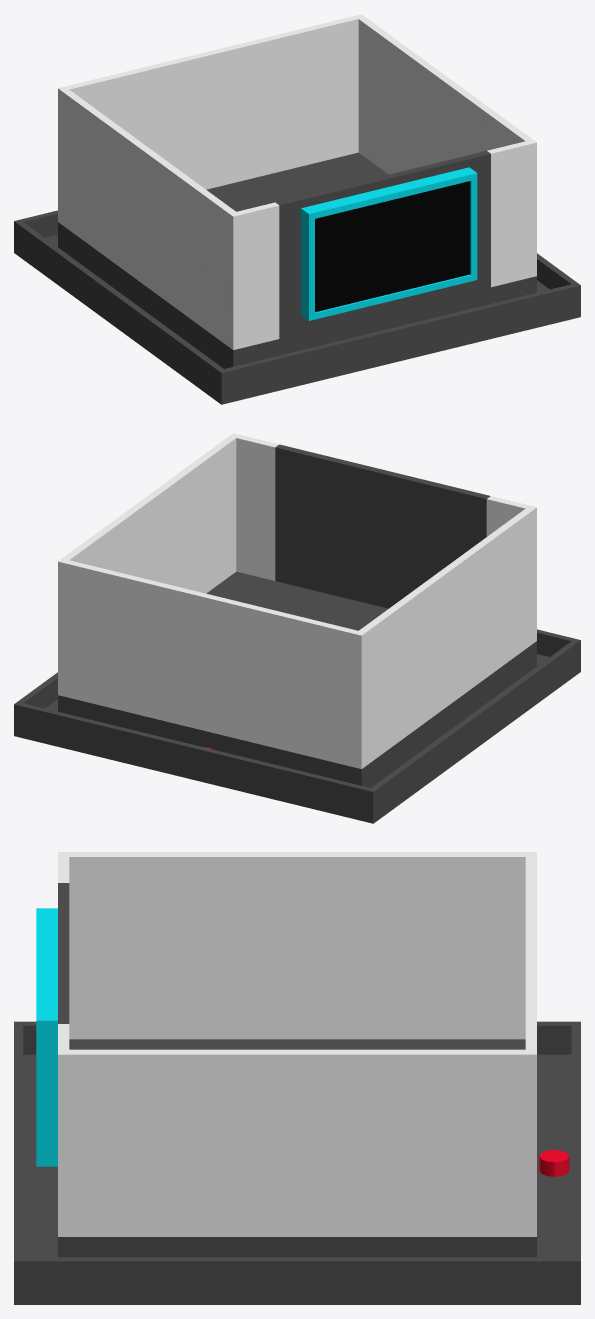
File: kade.fbx
3 views of the same model, one above another, from view 1: azimuth 30°, elevation 25°; view 2: azimuth 150°, elevation 25°; view 3: azimuth 270°, elevation 25° (orthographic). The views are drawn at different scales.
Parts seen in each view (by area): view 1: Kade.Base; view 2: Kade.Base; view 3: Kade.Base.
Part boxes in pixels (left/top/right/bottom): Kade.Base: left=14, top=14, right=580, bottom=404; Kade.Base: left=14, top=433, right=580, bottom=823; Kade.Base: left=14, top=852, right=580, bottom=1304.
Bounding box in the file's own units: 177 × 80 × 177.
